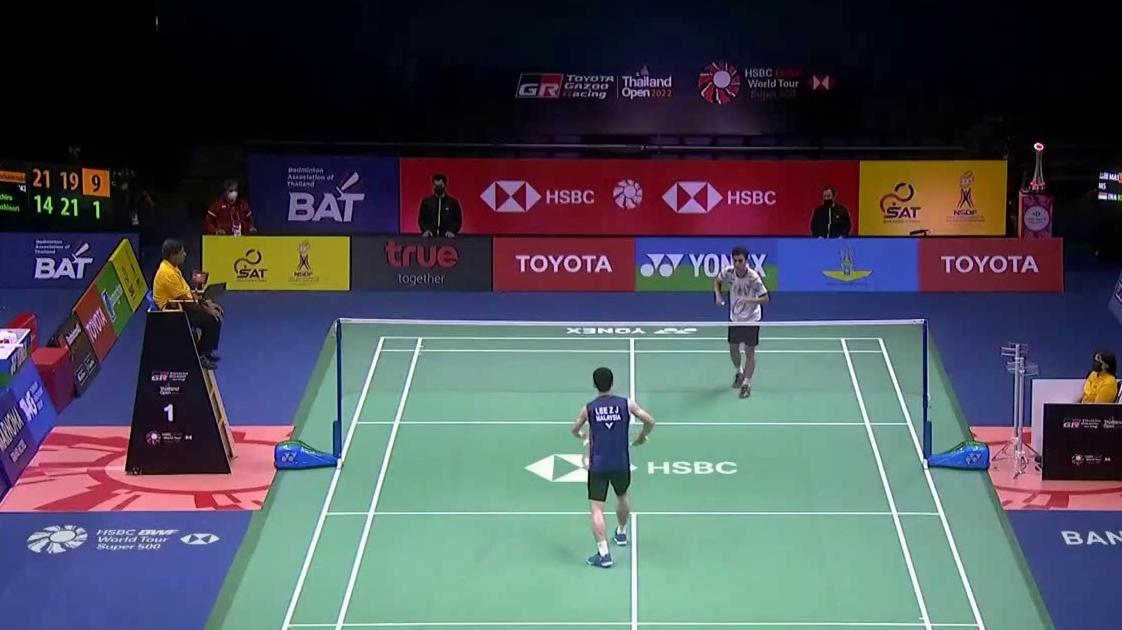racket: (581, 436, 651, 474), (720, 298, 746, 316)
shuttle: (583, 438, 590, 447)
